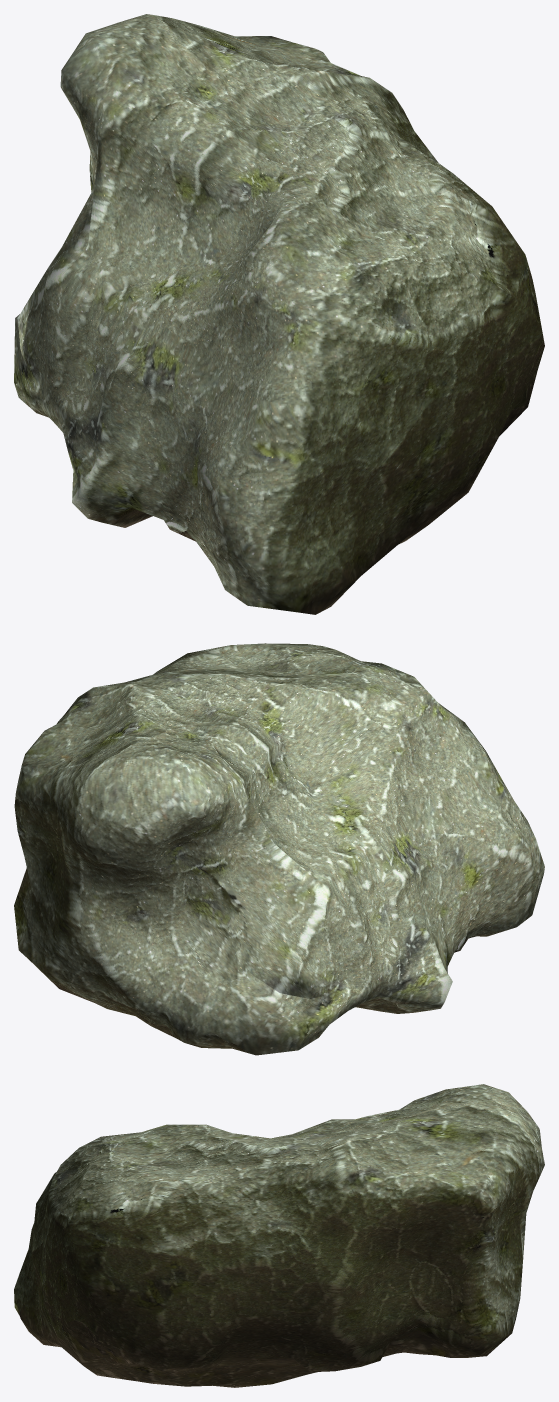
Rendered from rock_6.fbx.
3 views of the same model, one above another, from view 1: azimuth 30°, elevation 25°; view 2: azimuth 150°, elevation 25°; view 3: azimuth 270°, elevation 25° (orthographic). The views are drawn at different scales.
Parts seen in each view (by area): view 1: rock_6; view 2: rock_6; view 3: rock_6.
Part boxes in pixels (bbox=[...]): rock_6: bbox=[14, 14, 544, 614]; rock_6: bbox=[14, 643, 544, 1055]; rock_6: bbox=[14, 1084, 544, 1387].
Size of the model in its own units: 278 by 238 by 405.
